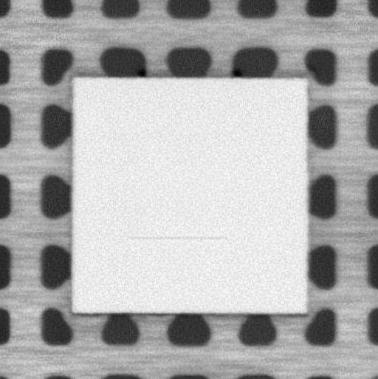DIE_CRACK: (127, 232, 229, 244)
